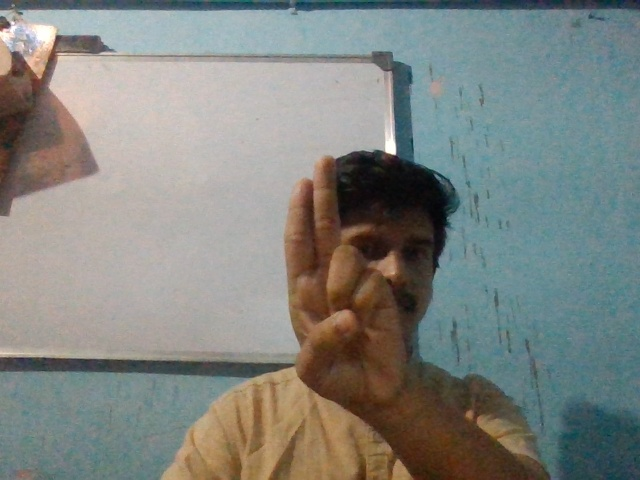Prana: (273, 148, 426, 413)
